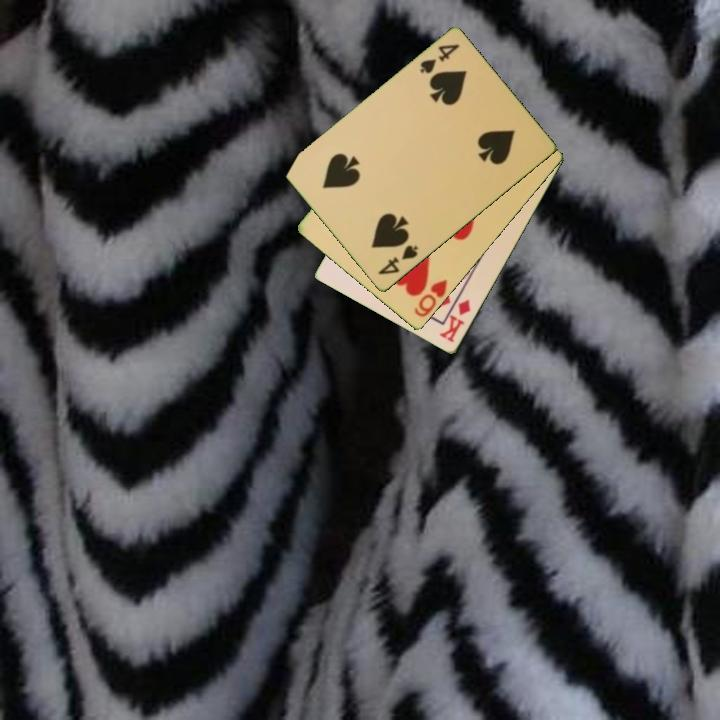4s: (374, 242, 421, 278), (416, 41, 462, 77)
6h: (411, 276, 450, 320)
Kd: (436, 296, 474, 346)
